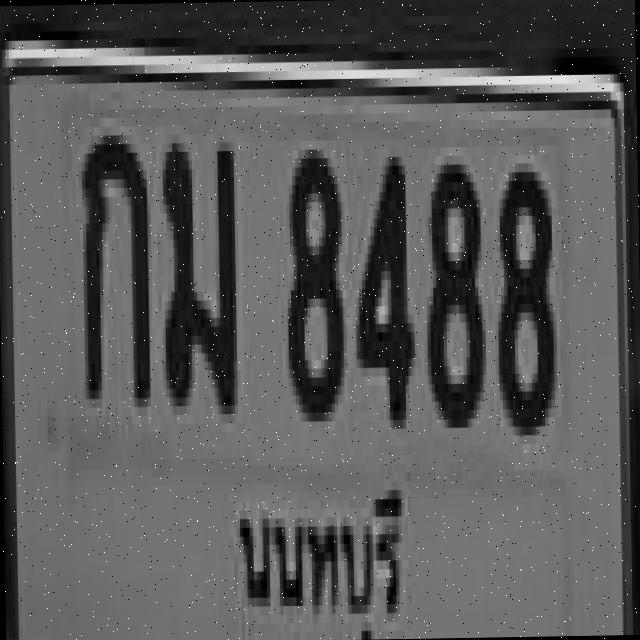10GorGai: (77, 125, 146, 398)
4: (352, 147, 412, 420)
42MorMa: (158, 133, 234, 406)
8: (281, 140, 341, 412), (492, 154, 552, 426), (420, 155, 480, 419)
Nonthaburi: (225, 467, 412, 640)
